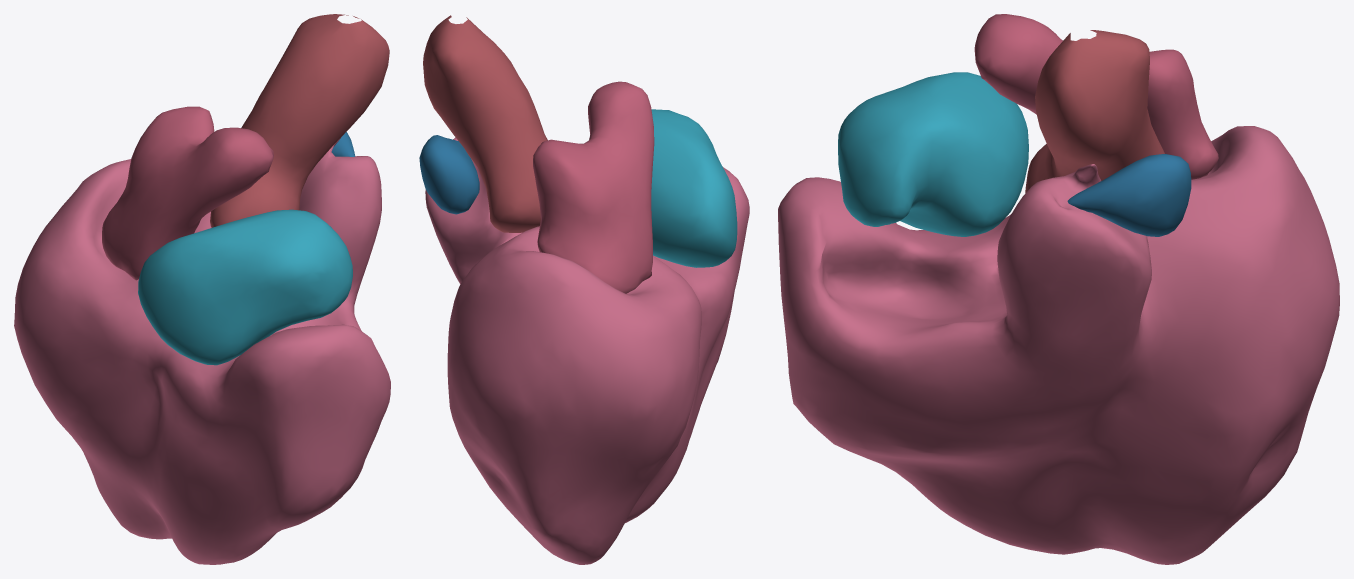
Rendered from frame_9.glb.
The picture shows the model from 3 angles, left to right: view 1: azimuth 30°, elevation 25°; view 2: azimuth 150°, elevation 25°; view 3: azimuth 270°, elevation 25°; orthographic projection. The views are drawn at different scales.
Visible parts, largest first — view 1: Renderer Node; view 2: Renderer Node; view 3: Renderer Node.
Boxes of the visible parts, x1,y1,x2,y2 form: Renderer Node: (14,14,390,564); Renderer Node: (419,15,749,564); Renderer Node: (778,14,1339,564).
Bounding box in the file's own units: 102 × 158 × 129.
